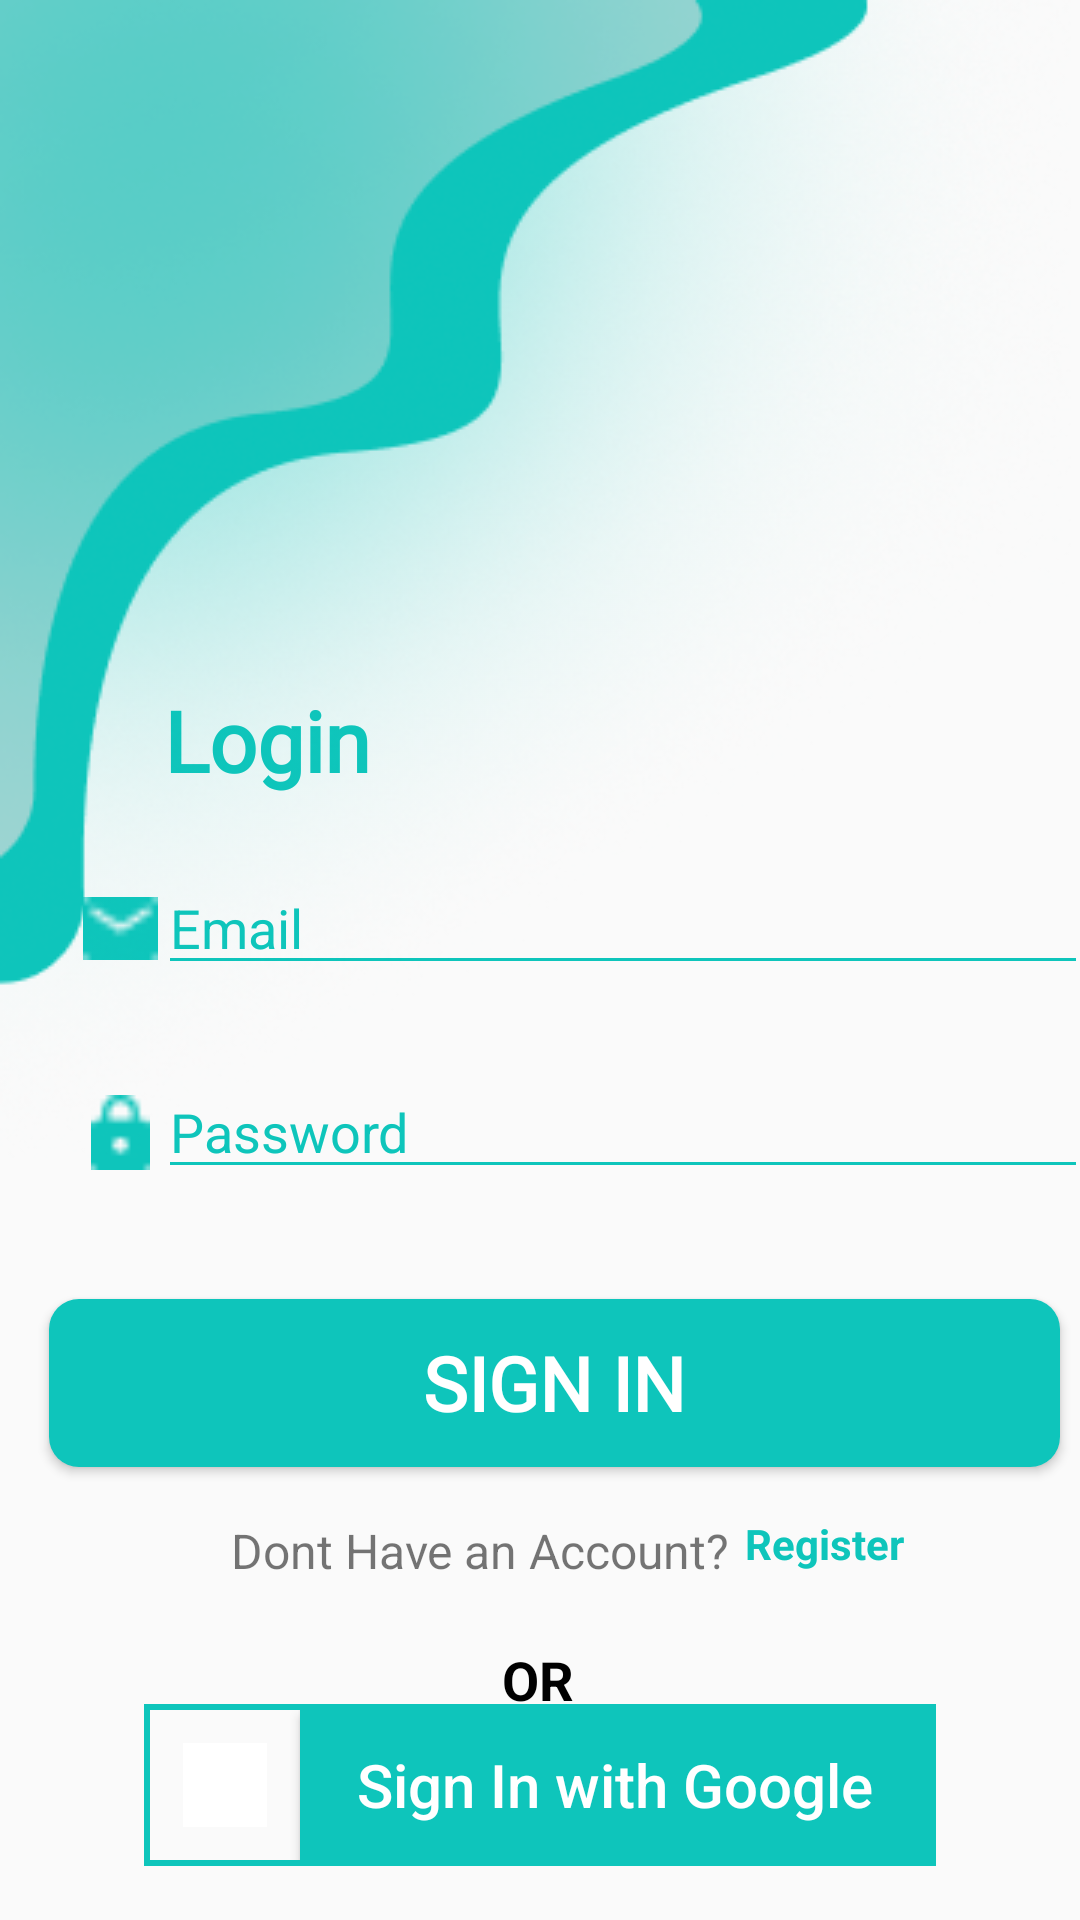

Where to tap for icons on this 1080px x 1920px app screen, as point (x, y):
lock: point (120, 1132)
